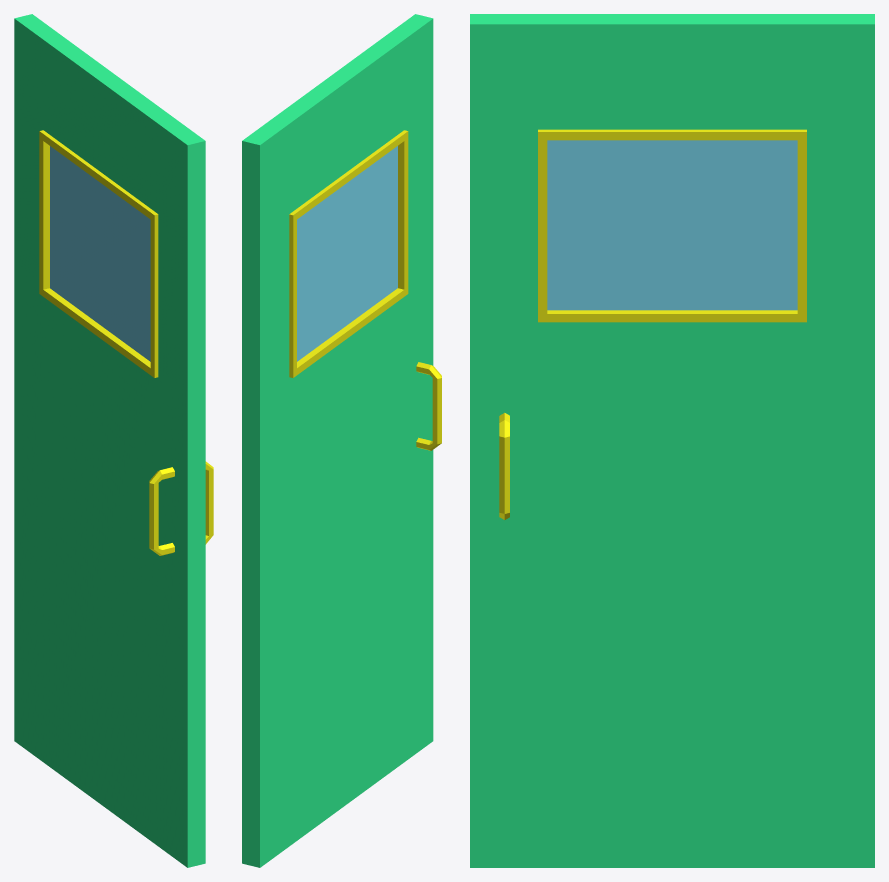
File: outsidedoor.glb
3 renders of one model, left to right at view 1: azimuth 30°, elevation 25°; view 2: azimuth 150°, elevation 25°; view 3: azimuth 270°, elevation 25°, orthographic. The views are drawn at different scales.
Visible parts, largest first — view 1: outsidedoor; view 2: outsidedoor; view 3: outsidedoor.
Part boxes in pixels (x1=…): outsidedoor: x1=14, y1=14, x2=213, y2=867; outsidedoor: x1=242, y1=14, x2=441, y2=867; outsidedoor: x1=470, y1=14, x2=874, y2=867.
Size of the model in its own units: 0.2141 by 2.3 by 1.
1 material, 1 textured.
